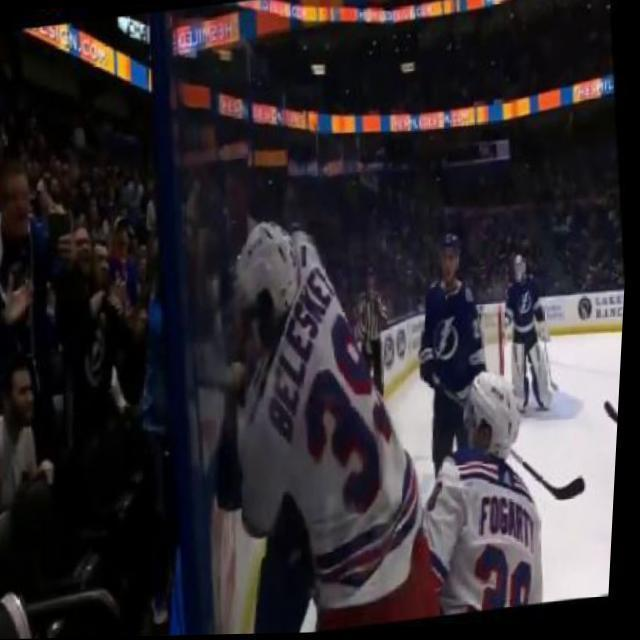fight: (185, 204, 458, 636)
